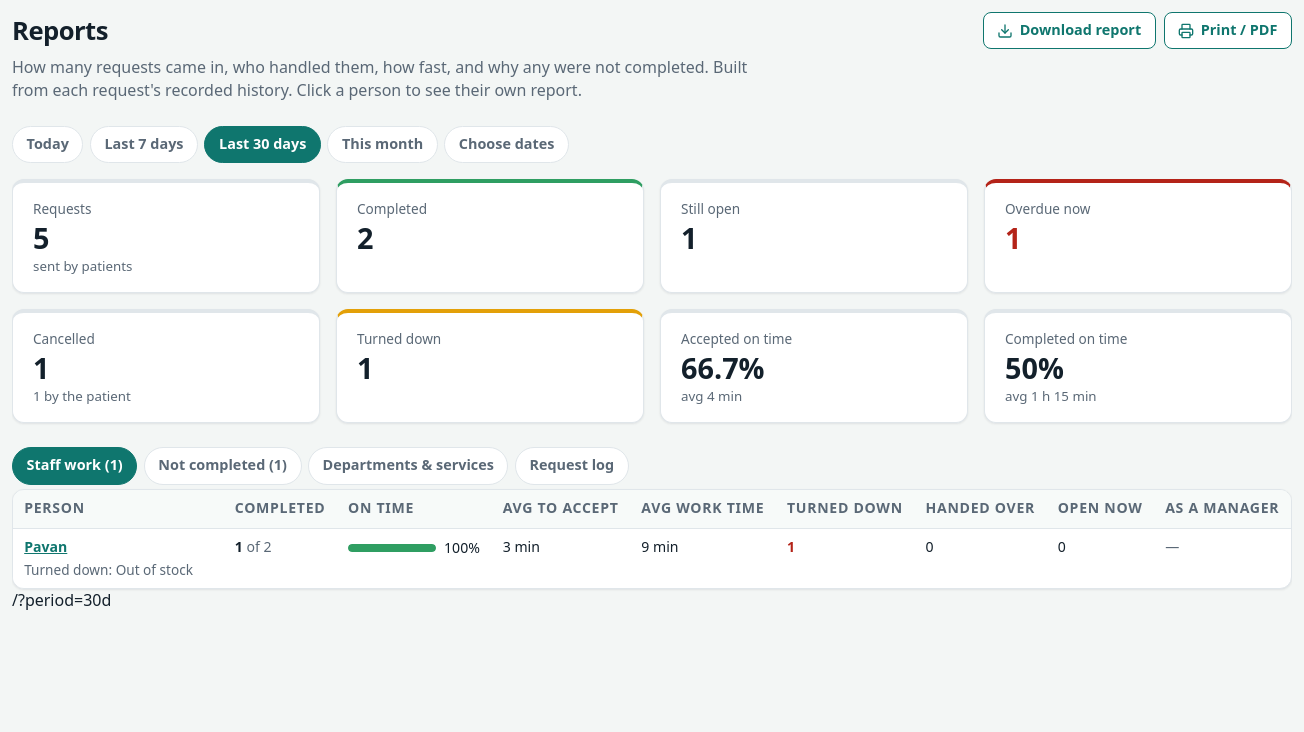
Scenario: Reports › shows totals and what each person did, and links to that person’s report
The image size is (1304, 732).
Expected: the element showing "Overdue now 1" is shown, [984,179,1292,293]
Expected: the text "1 by the patient" is shown, [33,387,131,405]
Click the button "Last 7 days" at (144, 145), box [90,126,198,163]
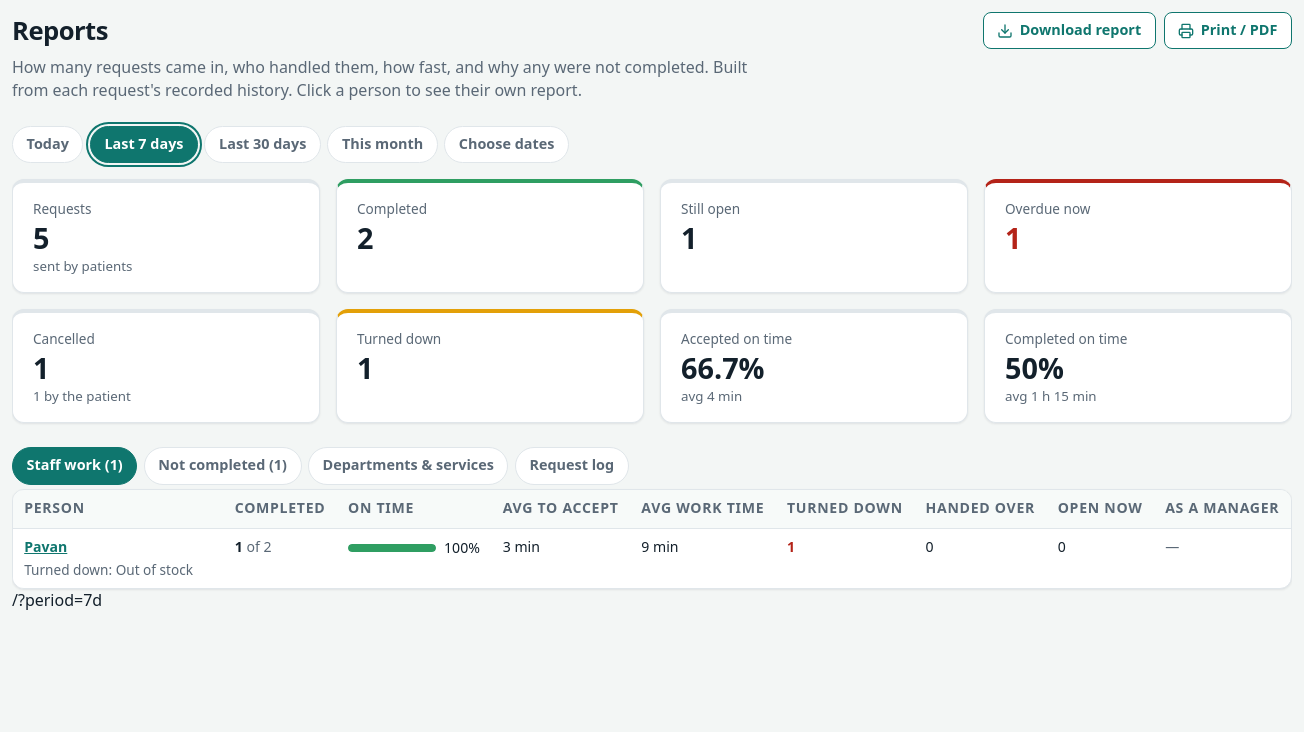
Result: the text with test id "address" reads "/?period=7d" at [12,589,102,611]
